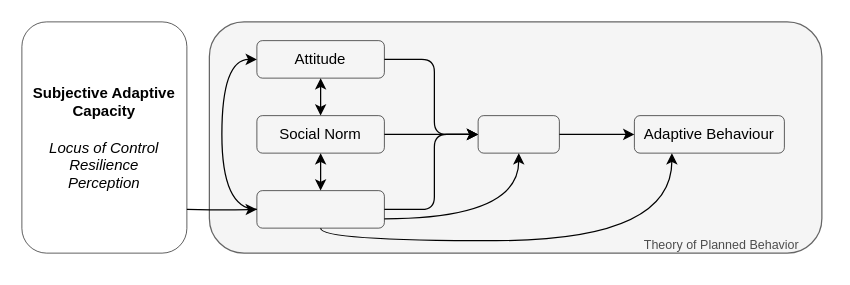
Some shapes in this 850 by 285 pixel diagram are drawn without their labels. The centre of each missing label's shape, as x and y in pixels:
"Intention" belongs at [518,134].
"Perceived Control" belongs at [320,209].
